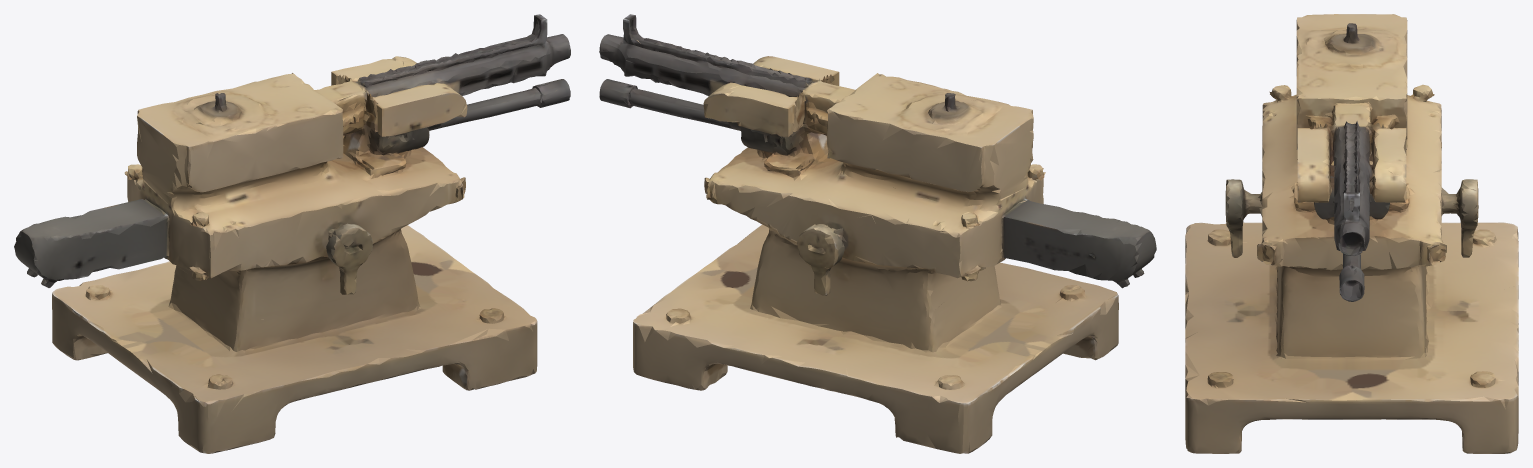
File: viper_weapon_secondary.glb
3 views of the same model, side by side, from view 1: azimuth 30°, elevation 25°; view 2: azimuth 150°, elevation 25°; view 3: azimuth 270°, elevation 25° (orthographic). The views are drawn at different scales.
Visible parts, largest first — view 1: viper_weapon_secondary; view 2: viper_weapon_secondary; view 3: viper_weapon_secondary.
Part boxes in pixels (x1=…): viper_weapon_secondary: x1=14, y1=14, x2=570, y2=453; viper_weapon_secondary: x1=599, y1=14, x2=1156, y2=453; viper_weapon_secondary: x1=1185, y1=14, x2=1518, y2=453.
Size of the model in its own units: 1.89 by 0.9451 by 0.9434.
Materials: 1 (1 with a texture image).
